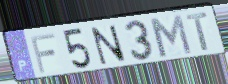3: (124, 19, 156, 62)
5: (61, 26, 93, 71)
F: (29, 32, 58, 75)
M: (147, 13, 194, 59)
N: (89, 24, 129, 67)
T: (185, 11, 211, 53)
